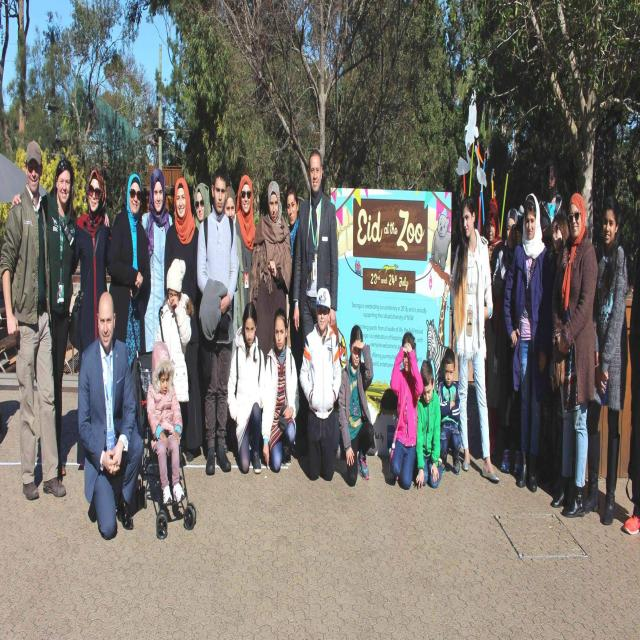body: (10, 156, 111, 478), (0, 139, 67, 502), (76, 288, 144, 544), (550, 189, 599, 519), (581, 196, 629, 527), (448, 191, 500, 488), (503, 190, 550, 495), (196, 166, 239, 476), (71, 167, 113, 469), (162, 174, 205, 463), (292, 148, 340, 354), (492, 207, 526, 479), (298, 284, 343, 484), (249, 179, 293, 371), (110, 172, 152, 366), (226, 298, 266, 477), (145, 339, 186, 508), (262, 304, 302, 476), (336, 321, 376, 489), (141, 166, 174, 356), (483, 196, 506, 454), (153, 257, 193, 403), (388, 331, 423, 493), (622, 250, 640, 537), (286, 184, 304, 428), (415, 356, 444, 492), (223, 187, 243, 360), (234, 173, 256, 329), (438, 347, 462, 475), (371, 387, 398, 486), (538, 159, 564, 239), (578, 479, 622, 525), (550, 211, 571, 275), (61, 403, 80, 461), (446, 447, 482, 477), (142, 429, 156, 503), (0, 396, 20, 446), (194, 182, 212, 231), (32, 431, 46, 487), (517, 208, 524, 246)
